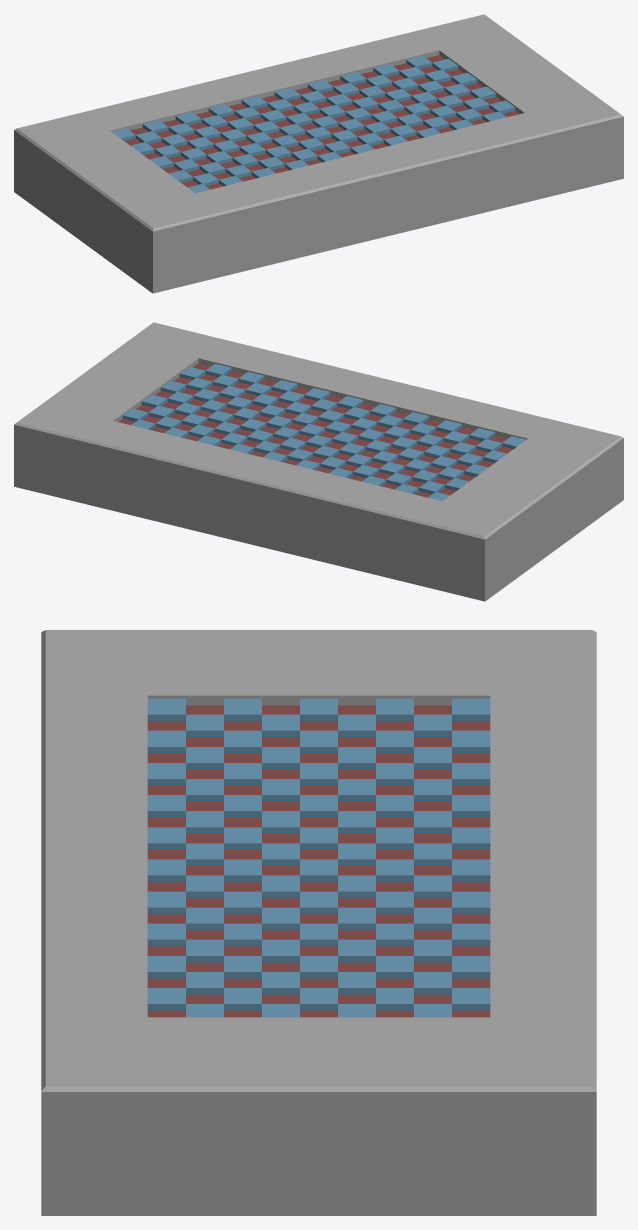
The model's file is GroundV1.fbx.
3 renders of one model, top to bottom at view 1: azimuth 30°, elevation 25°; view 2: azimuth 150°, elevation 25°; view 3: azimuth 270°, elevation 25°, orthographic. The views are drawn at different scales.
Parts seen in each view (by area): view 1: Terrain, Raised_Grid, Lower_Grid; view 2: Terrain, Raised_Grid, Lower_Grid; view 3: Terrain, Raised_Grid, Lower_Grid.
Boxes of the visible parts, x1,y1,x2,y2 form: Terrain: (14,14,623,293); Raised_Grid: (111,55,515,193); Lower_Grid: (124,55,519,189); Terrain: (14,322,623,601); Raised_Grid: (122,363,526,501); Lower_Grid: (118,363,513,497); Terrain: (41,630,596,1215); Raised_Grid: (147,698,490,1017); Lower_Grid: (147,705,490,1017).
Bounding box in the file's own units: 143 × 18.55 × 73.
